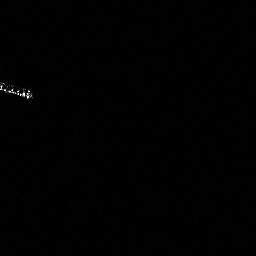ship: (1, 78, 37, 104)
